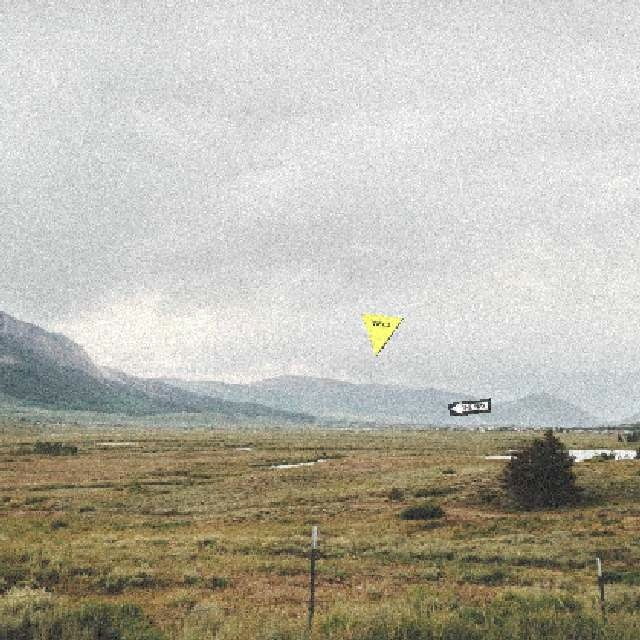ONE_WAY_ left: (446, 397, 490, 415)
YIELD: (359, 311, 402, 355)
